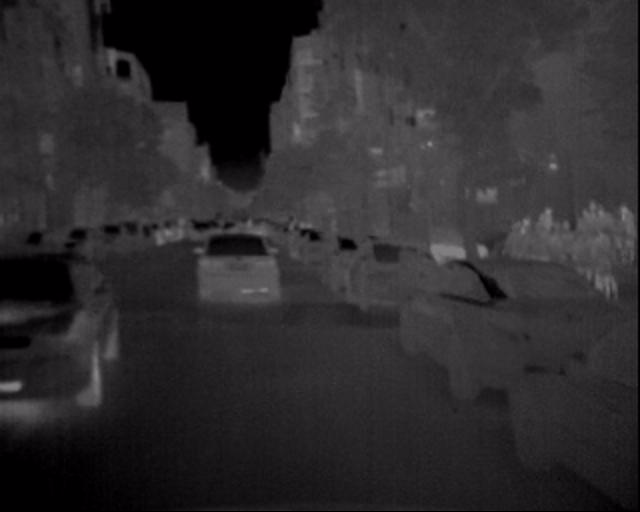person: (511, 195, 637, 302)
